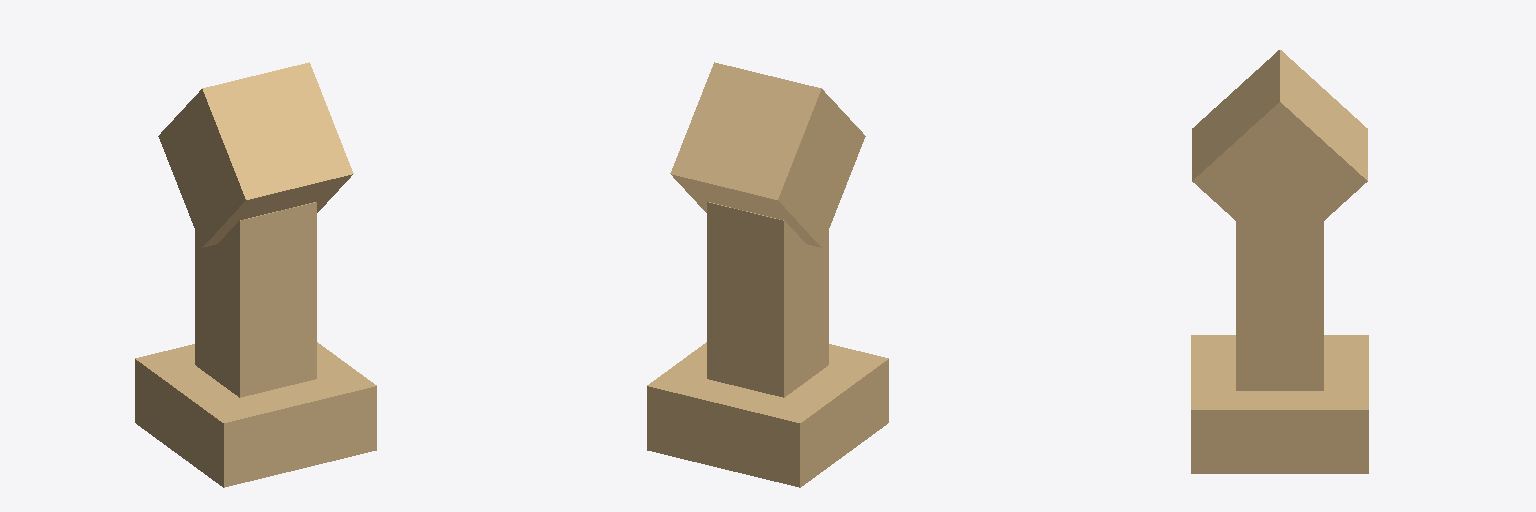
The picture shows the model from 3 angles: view 1: azimuth 30°, elevation 25°; view 2: azimuth 150°, elevation 25°; view 3: azimuth 270°, elevation 25°; orthographic projection.
Parts seen in each view (by area): view 1: cuboid; view 2: cuboid; view 3: cuboid.
Boxes of the visible parts, x1=… form: cuboid: x1=135, y1=62, x2=376, y2=487; cuboid: x1=647, y1=62, x2=888, y2=487; cuboid: x1=1191, y1=50, x2=1368, y2=473.
Size of the model in its own units: 0.625 by 1.4 by 0.625.
1 materials, 1 textured.